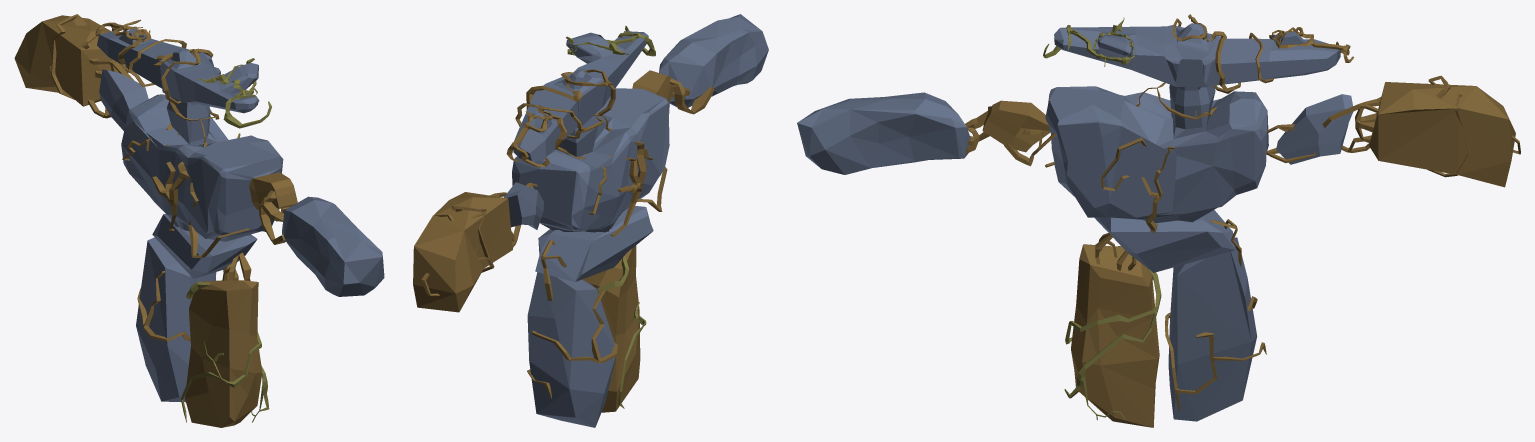
The model's file is GOLEM.FIXESANDCHANGESfbx.fbx.
3 renders of one model, left to right at view 1: azimuth 30°, elevation 25°; view 2: azimuth 150°, elevation 25°; view 3: azimuth 270°, elevation 25°, orthographic. The views are drawn at different scales.
Visible parts, largest first — view 1: torso, right leg, EYES, right uppper arm, left leg, head, left upper arm, hips, left shoulder, right shoulder, root1, root3; view 2: torso, left leg, left upper arm, EYES, head, right uppper arm, hips, right leg, left shoulder, root1, right shoulder, root3; view 3: torso, right leg, left leg, left upper arm, right uppper arm, head, EYES, hips, left shoulder, right shoulder, root1, root3.
Boxes of the visible parts, x1=… form: torso: x1=121, y1=94, x2=283, y2=241; right leg: x1=185, y1=280, x2=262, y2=427; EYES: x1=50, y1=14, x2=289, y2=341; right uppper arm: x1=282, y1=196, x2=384, y2=296; left leg: x1=136, y1=237, x2=216, y2=402; head: x1=97, y1=29, x2=258, y2=113; left upper arm: x1=14, y1=15, x2=128, y2=106; hips: x1=152, y1=214, x2=257, y2=278; left shoulder: x1=99, y1=69, x2=148, y2=130; right shoulder: x1=249, y1=172, x2=297, y2=209; root1: x1=180, y1=280, x2=269, y2=422; root3: x1=197, y1=58, x2=271, y2=128; torso: x1=512, y1=88, x2=669, y2=232; left leg: x1=527, y1=272, x2=615, y2=427; left upper arm: x1=413, y1=192, x2=512, y2=312; EYES: x1=421, y1=69, x2=714, y2=398; head: x1=513, y1=31, x2=648, y2=162; right uppper arm: x1=659, y1=14, x2=768, y2=107; hips: x1=535, y1=206, x2=653, y2=281; right leg: x1=582, y1=245, x2=640, y2=412; left shoulder: x1=504, y1=182, x2=543, y2=229; root1: x1=597, y1=255, x2=646, y2=408; right shoulder: x1=632, y1=70, x2=673, y2=102; root3: x1=566, y1=26, x2=655, y2=56; torso: x1=1045, y1=84, x2=1268, y2=223; right leg: x1=1071, y1=244, x2=1159, y2=427; left leg: x1=1168, y1=237, x2=1257, y2=421; left upper arm: x1=1369, y1=82, x2=1515, y2=187; right uppper arm: x1=797, y1=92, x2=970, y2=174; head: x1=1054, y1=23, x2=1340, y2=87; EYES: x1=965, y1=14, x2=1520, y2=410; hips: x1=1094, y1=210, x2=1235, y2=272; left shoulder: x1=1276, y1=94, x2=1352, y2=164; right shoulder: x1=982, y1=100, x2=1050, y2=152; root1: x1=1064, y1=246, x2=1161, y2=420; root3: x1=1043, y1=17, x2=1135, y2=66.
Bounding box in the file's own units: 2121 × 7871 × 12938.
